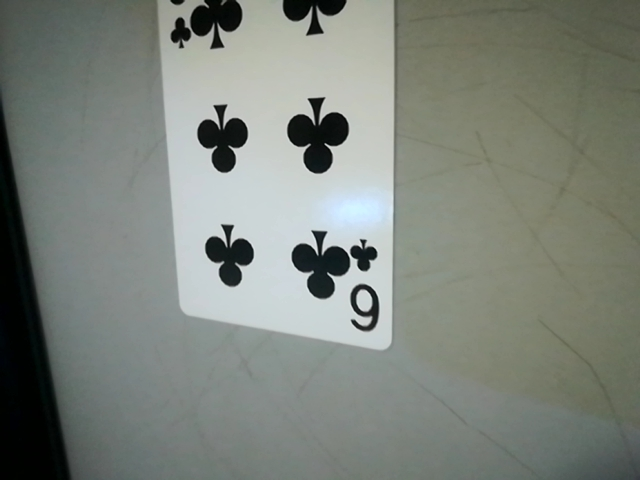mh 6: (340, 234, 390, 343)
